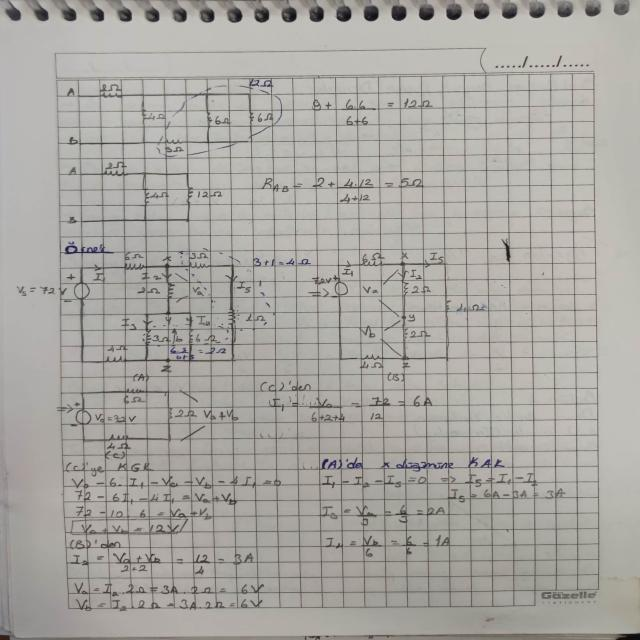image: (302, 249, 506, 383), (55, 243, 255, 374), (53, 76, 286, 161), (60, 161, 232, 231), (53, 382, 215, 453)
math: (318, 470, 574, 562), (57, 460, 291, 534), (65, 536, 273, 612), (251, 168, 434, 207), (264, 391, 449, 426)
